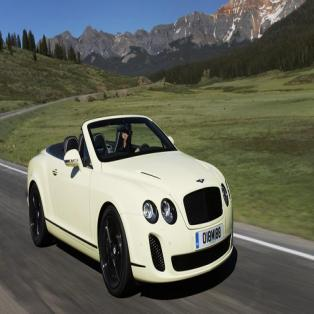Auto: (28, 114, 237, 296)
